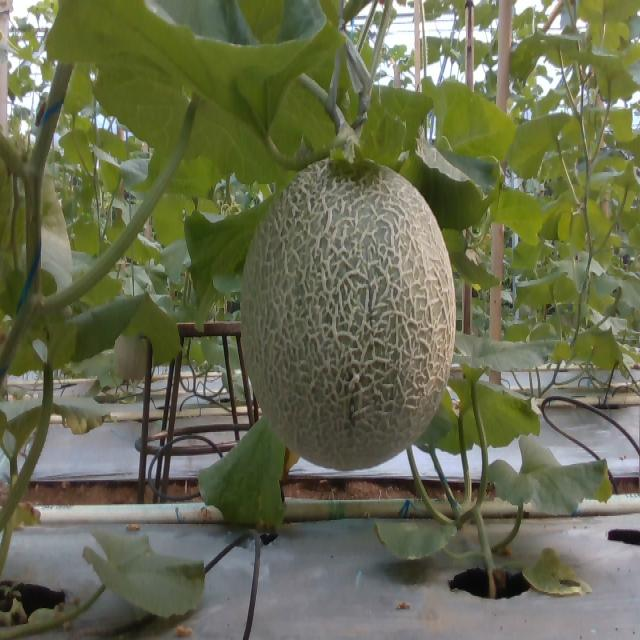melon: (243, 159, 456, 470)
